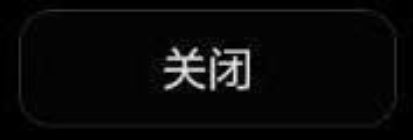Button: (1, 1, 412, 139)
